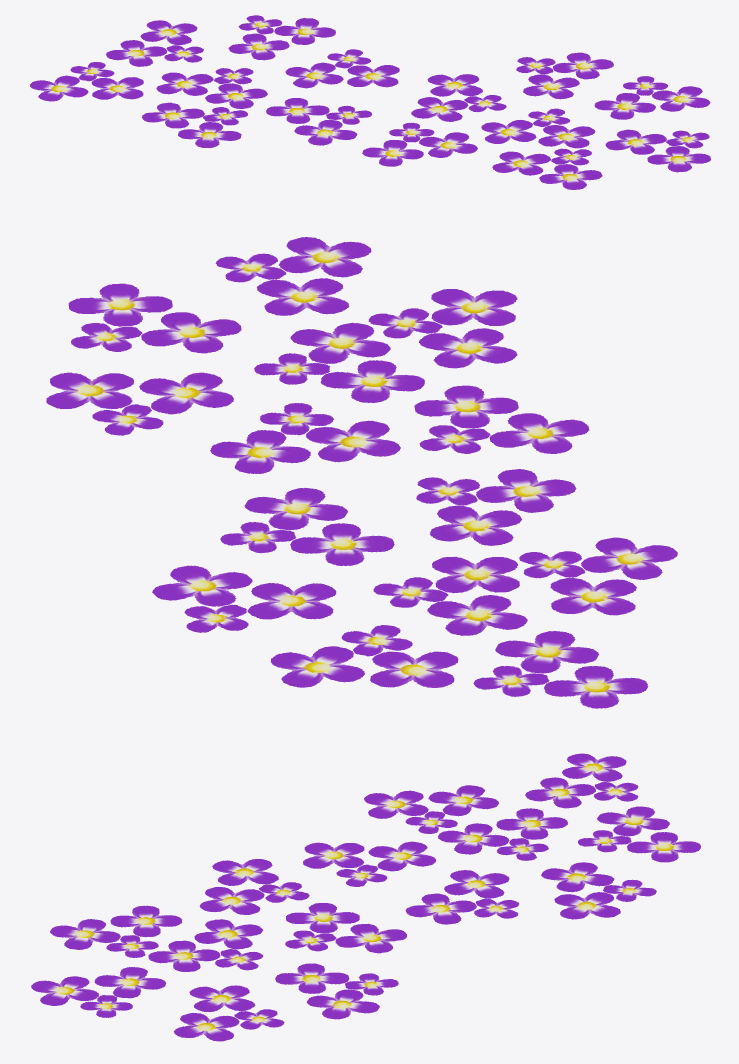
File: Flowers.fbx
3 views of the same model, one above another, from view 1: azimuth 30°, elevation 25°; view 2: azimuth 150°, elevation 25°; view 3: azimuth 270°, elevation 25° (orthographic). The views are drawn at different scales.
Visible parts, largest first — view 1: Plane.000; view 2: Plane.000; view 3: Plane.000.
Boxes of the visible parts, <box> form: Plane.000: <box>30,15,710,189</box>; Plane.000: <box>46,237,677,708</box>; Plane.000: <box>31,753,700,1041</box>.
Size of the model in its own units: 622 by 0.00124 by 620.
Materials: 1 (1 with a texture image).
